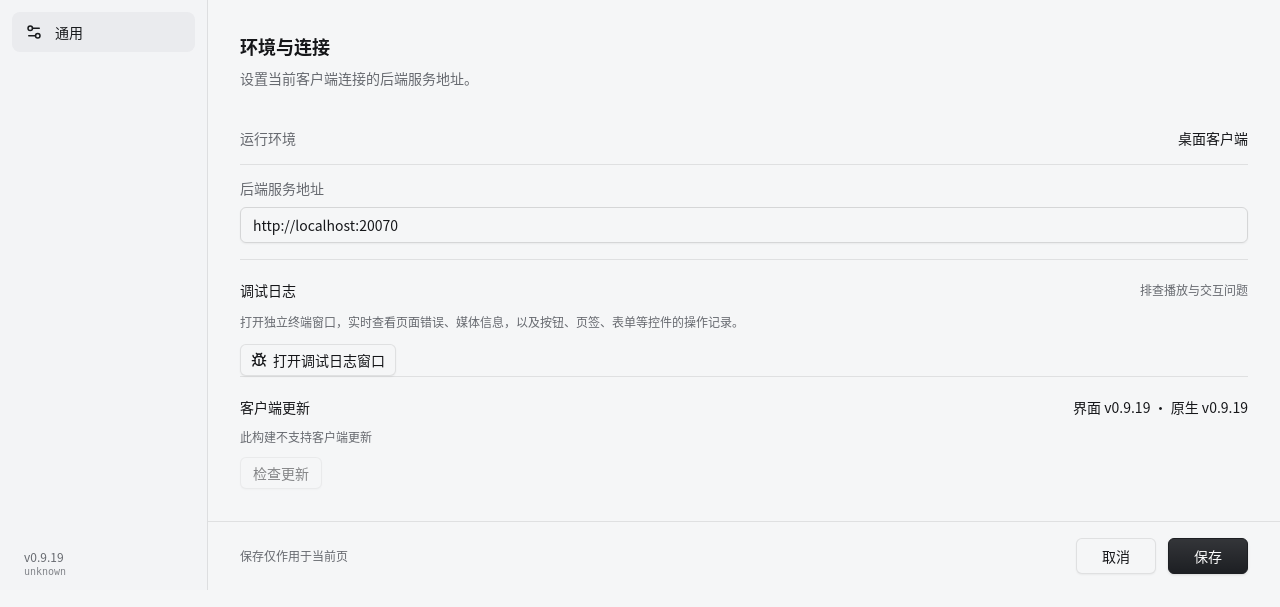
Scenario: 只改后端地址按字段合并且不显示本地模板路径
This screenshot has width=1280, height=607.
Step 1. Replace the text in the field labelled "后端服务地址" with "http://fixed.test:9000" → (744, 225), box [240, 207, 1248, 243]
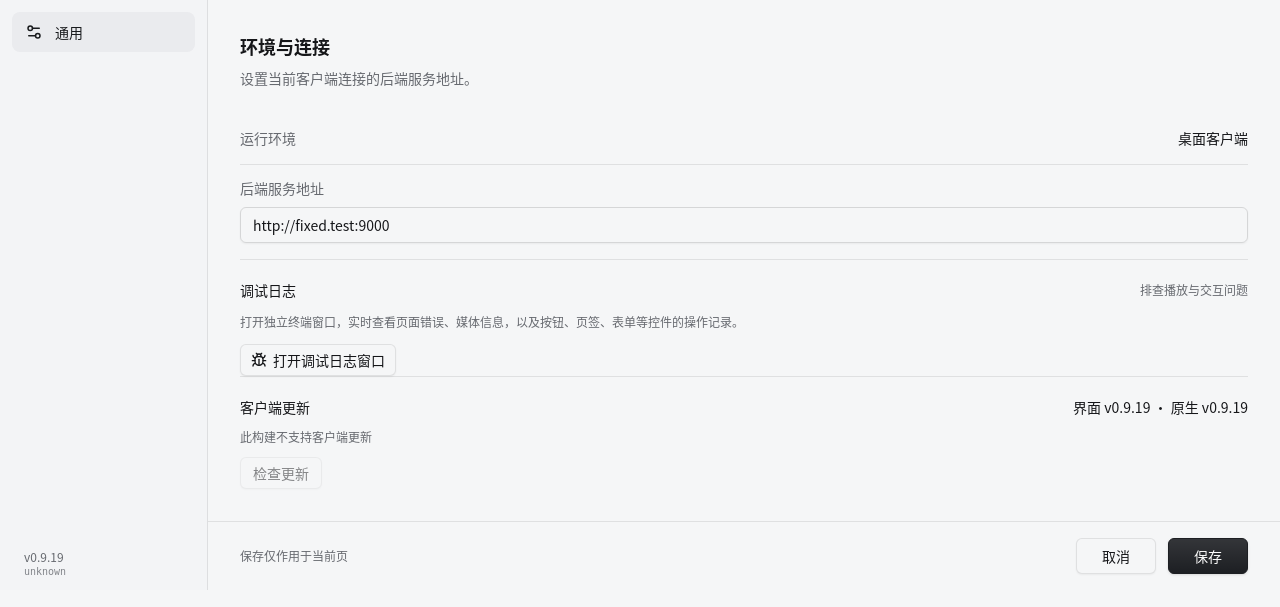
Step 2. Submit the form named "通用设置"
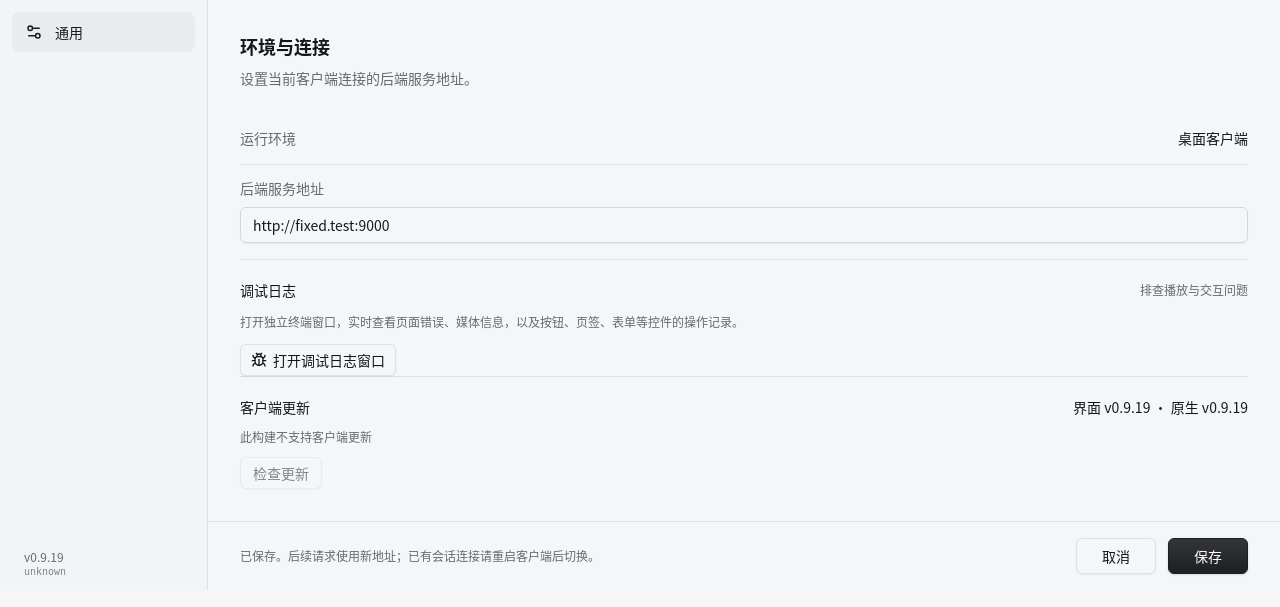
expect the text "已保存。后续请求使用新地址；已有会话连接请重启客户端后切换。" is shown: met, box [240, 547, 600, 564]
